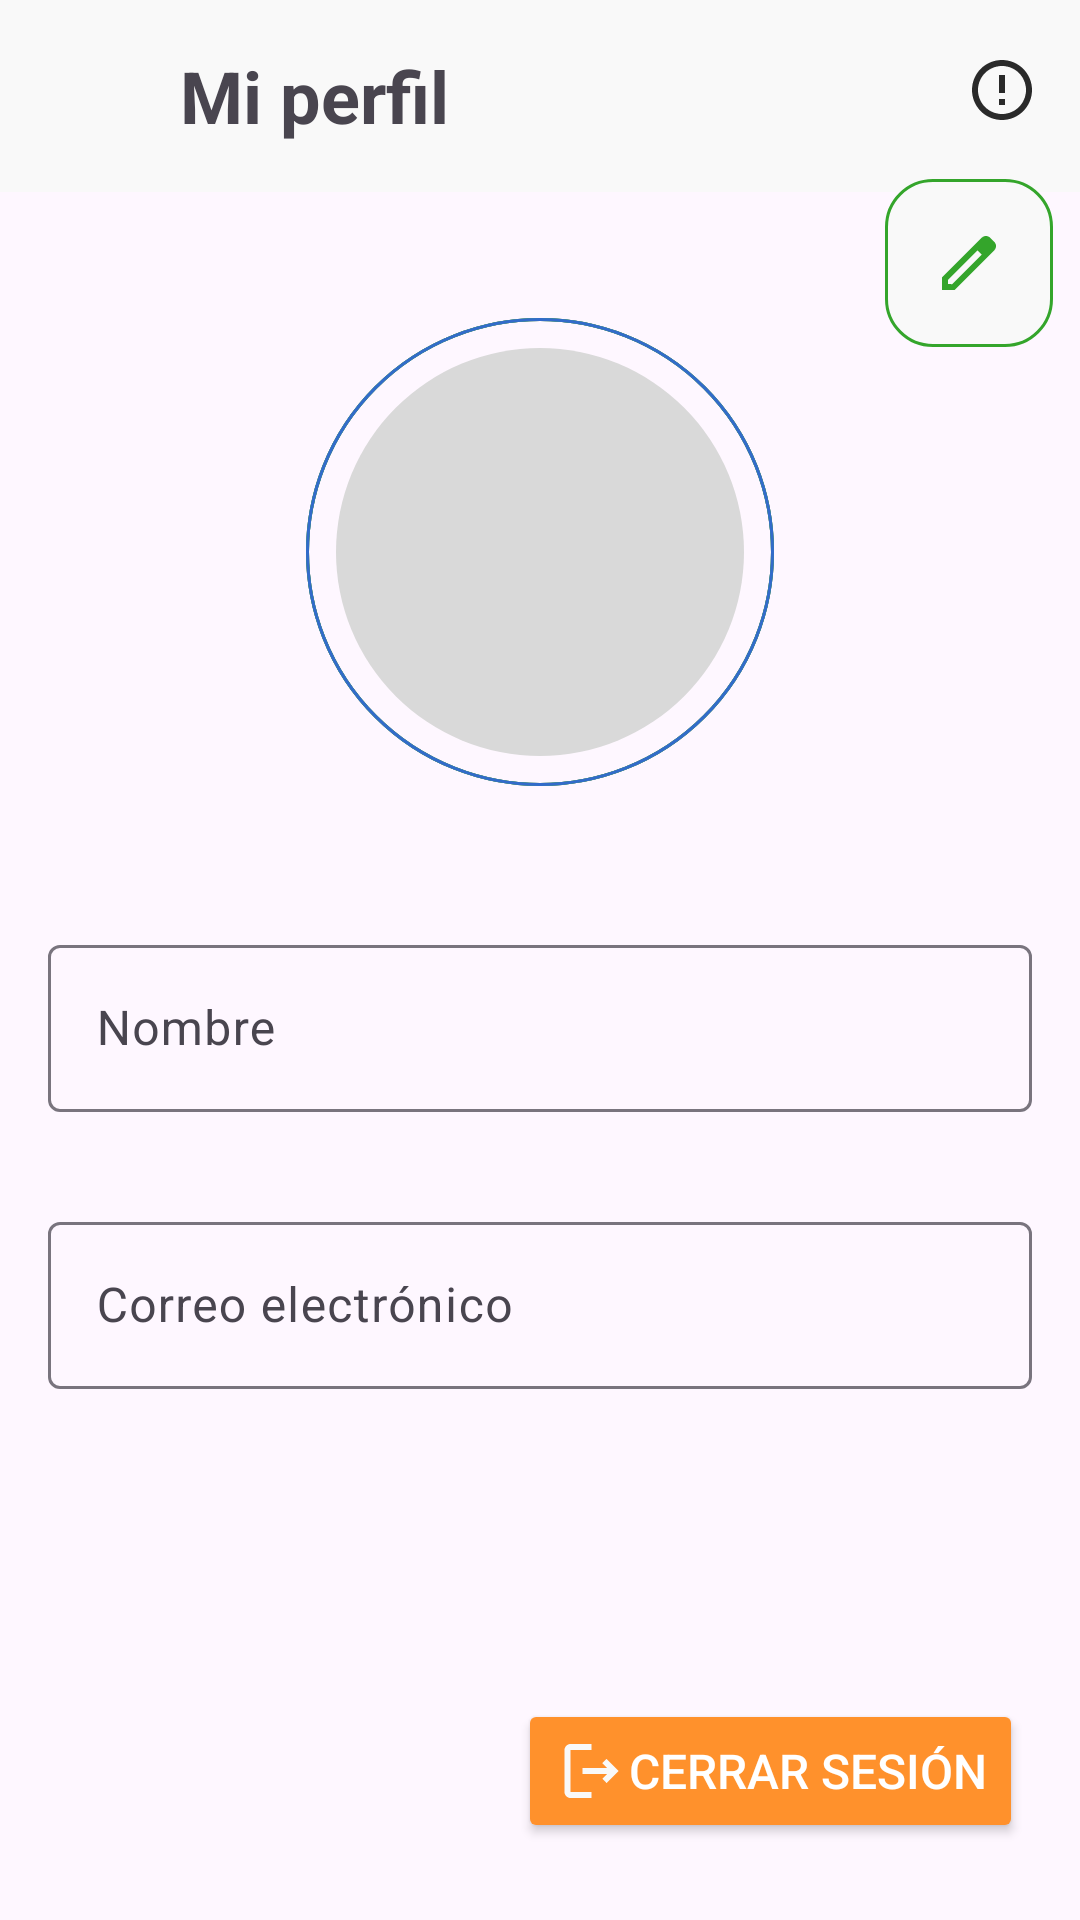

Icons on this 1080×1920 Android screen, each with the point to tap as [x,y]:
edit: [969,263]
